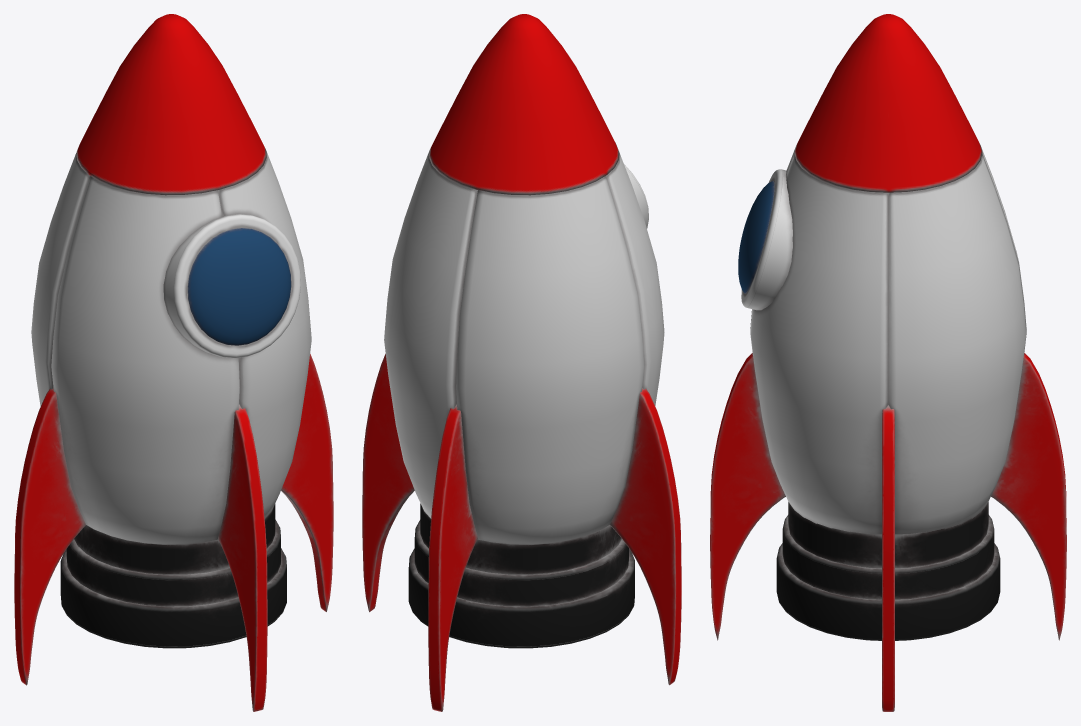
File: rocket.glb
3 renders of one model, left to right at view 1: azimuth 30°, elevation 25°; view 2: azimuth 150°, elevation 25°; view 3: azimuth 270°, elevation 25°, orthographic.
Visible parts, largest first — view 1: Body, Wings, Tip, Engine, Window.001, Window; view 2: Body, Wings, Tip, Engine; view 3: Body, Wings, Tip, Engine, Window, Window.001.
Boxes of the visible parts, x1=… form: Body: x1=31, y1=150, x2=311, y2=544; Wings: x1=14, y1=354, x2=333, y2=711; Tip: x1=76, y1=14, x2=266, y2=195; Engine: x1=60, y1=504, x2=286, y2=648; Window.001: x1=187, y1=228, x2=291, y2=345; Window: x1=163, y1=213, x2=300, y2=358; Body: x1=384, y1=150, x2=664, y2=544; Wings: x1=362, y1=354, x2=681, y2=711; Tip: x1=429, y1=14, x2=619, y2=195; Engine: x1=408, y1=503, x2=634, y2=648; Body: x1=750, y1=147, x2=1026, y2=534; Wings: x1=710, y1=353, x2=1066, y2=711; Tip: x1=794, y1=14, x2=982, y2=192; Engine: x1=776, y1=502, x2=1000, y2=640; Window: x1=741, y1=169, x2=792, y2=310; Window.001: x1=738, y1=181, x2=774, y2=293.
Size of the model in its own units: 1.63 by 3.12 by 1.63.
Materials: 1 (1 with a texture image).
